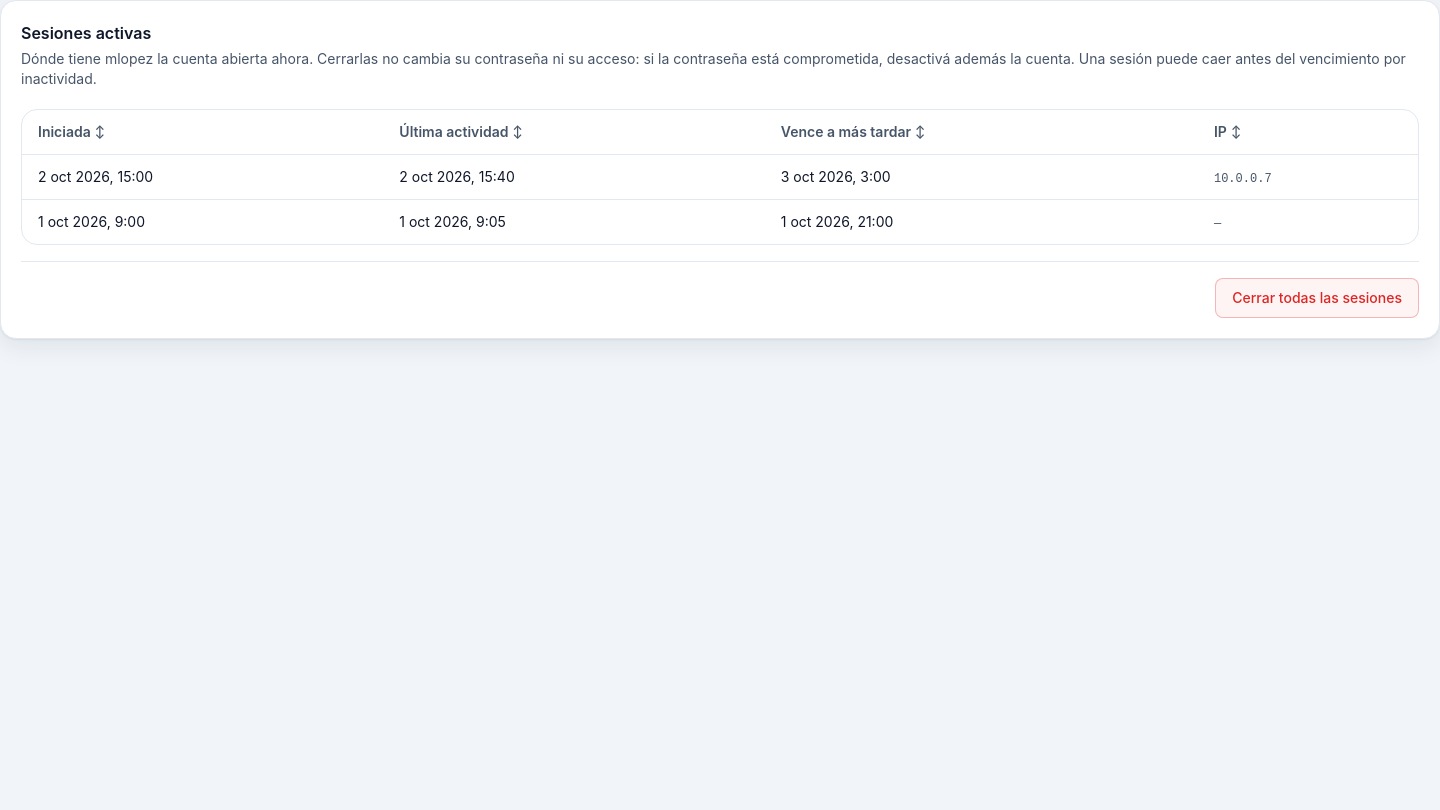
Test: GatewayUserSessionsSection › con 0 cerradas lo dice como resultado, no como error
Click the button "Cerrar todas las sesiones".
click(1317, 298)  # box x1=1215 y1=278 x2=1419 y2=318
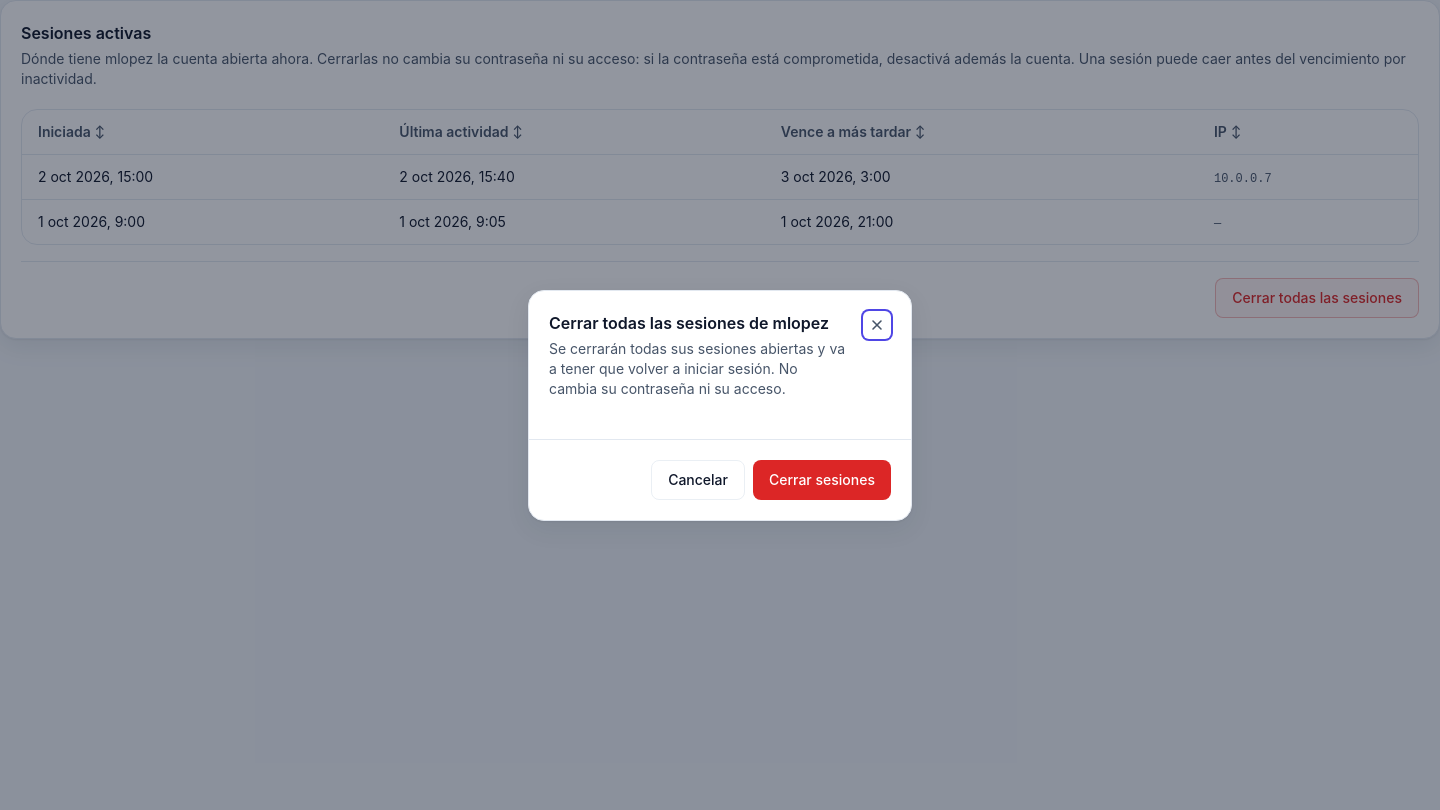
Click the button "Cerrar sesiones".
click(822, 480)  # box x1=753 y1=460 x2=891 y2=500
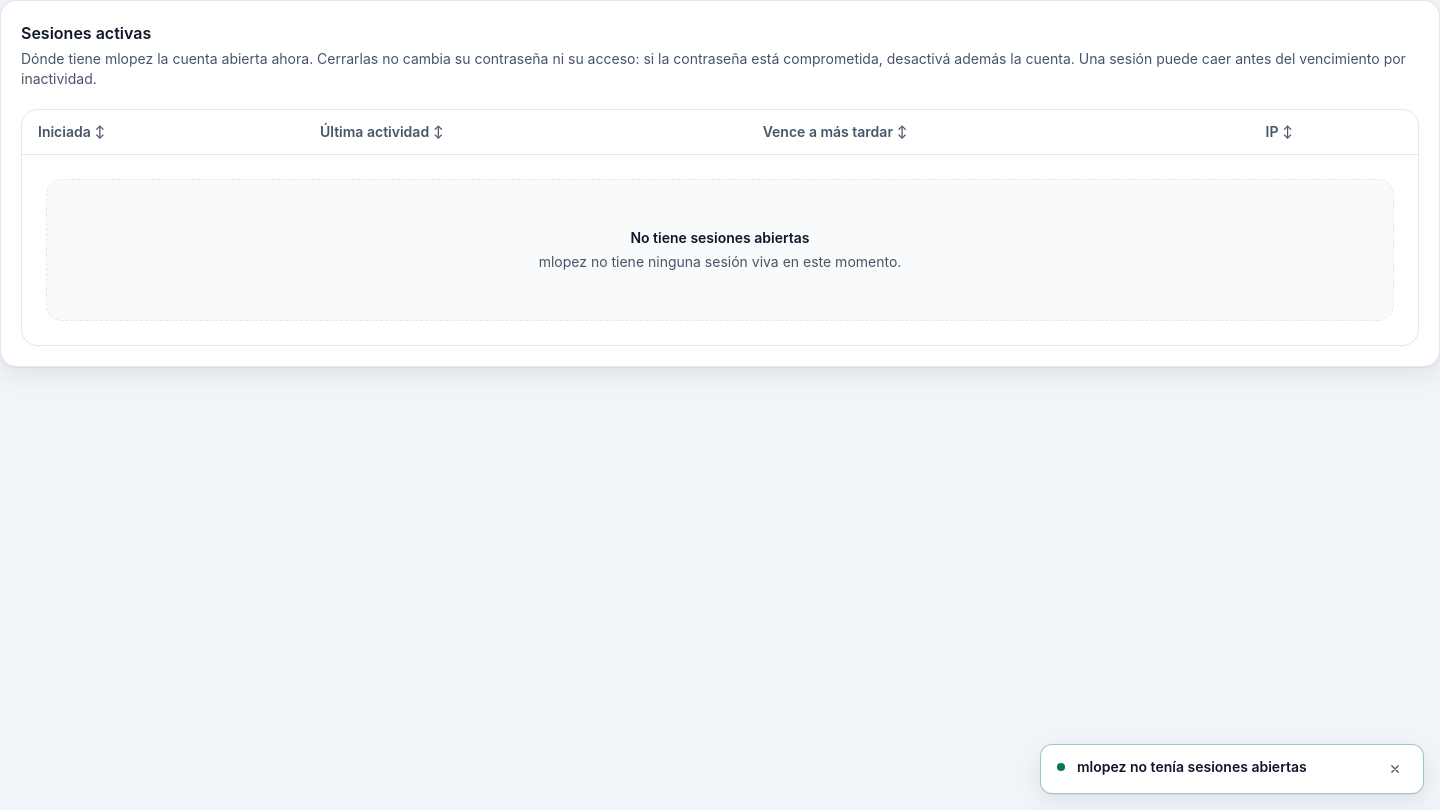
Expected: the text "mlopez no tenía sesiones abiertas" is shown, x1=1077 y1=758 x2=1307 y2=775
